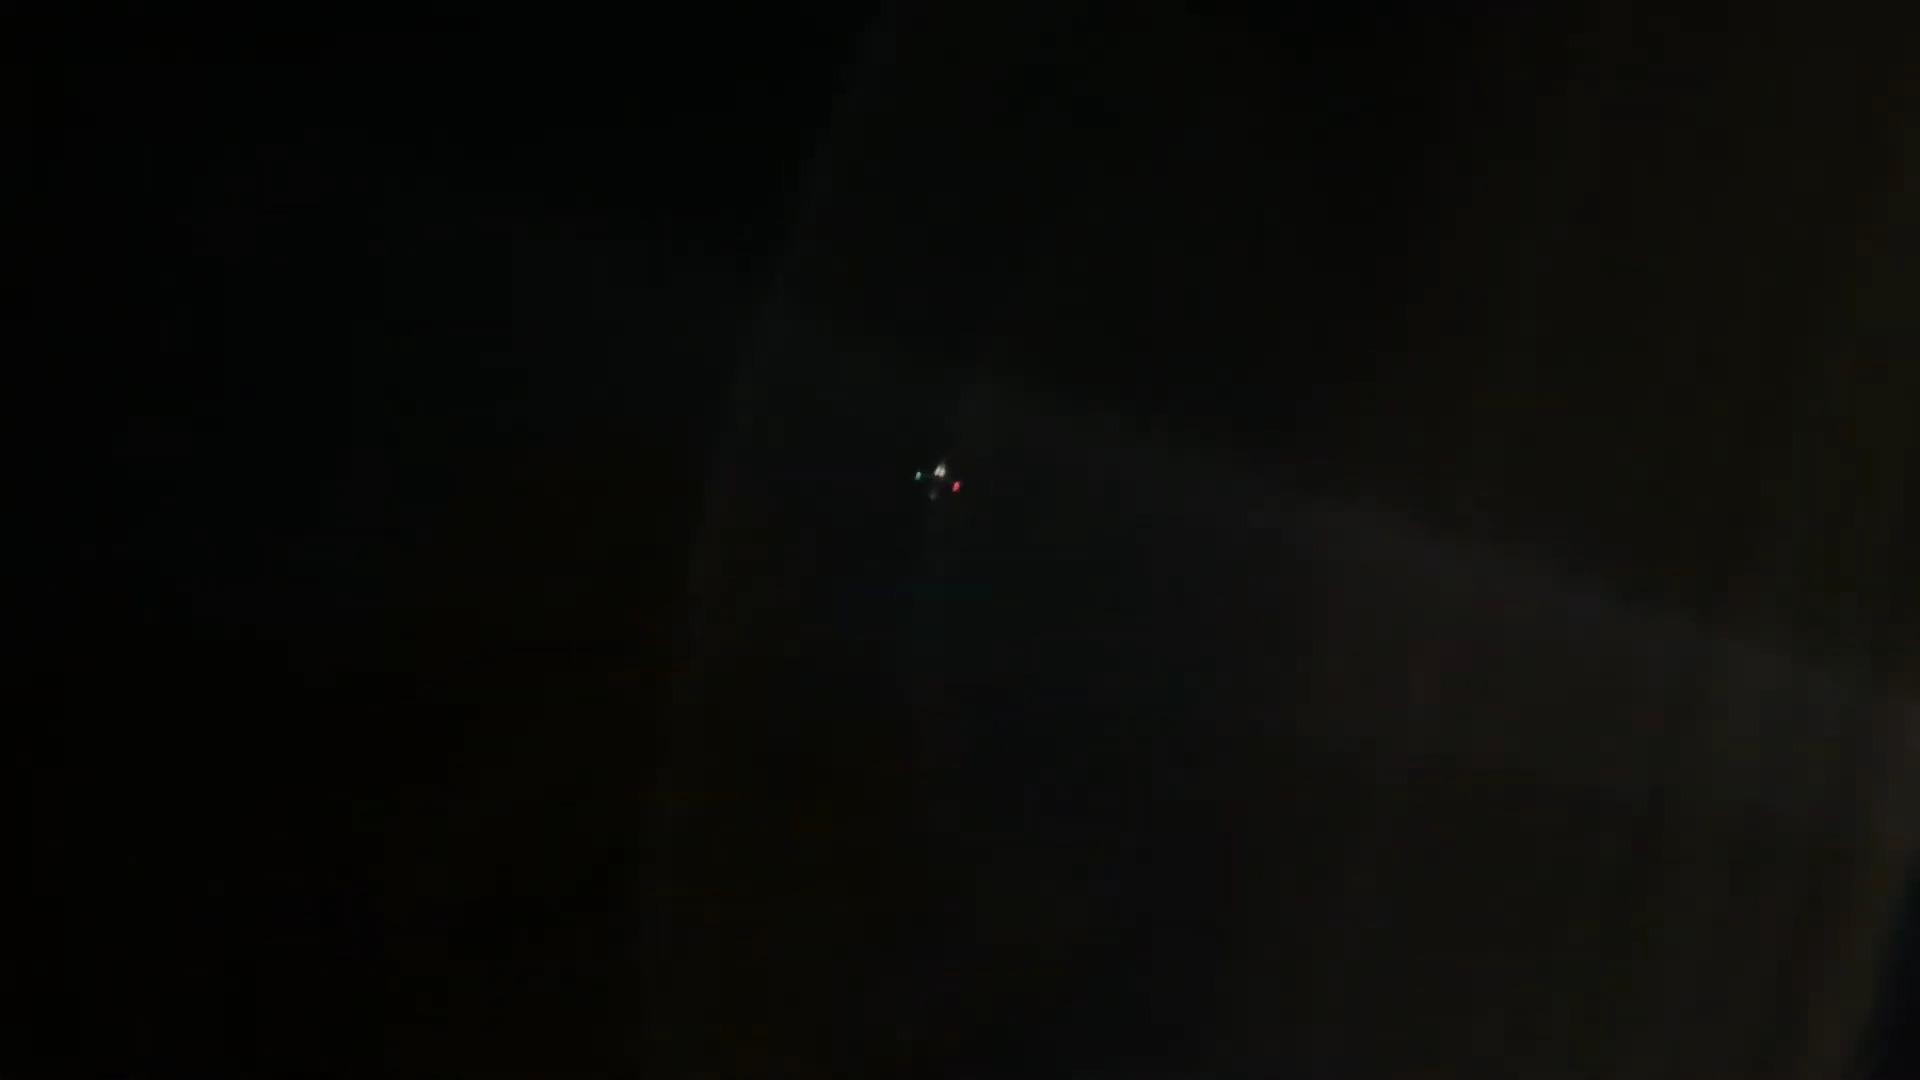Plane: (889, 446, 996, 521)
